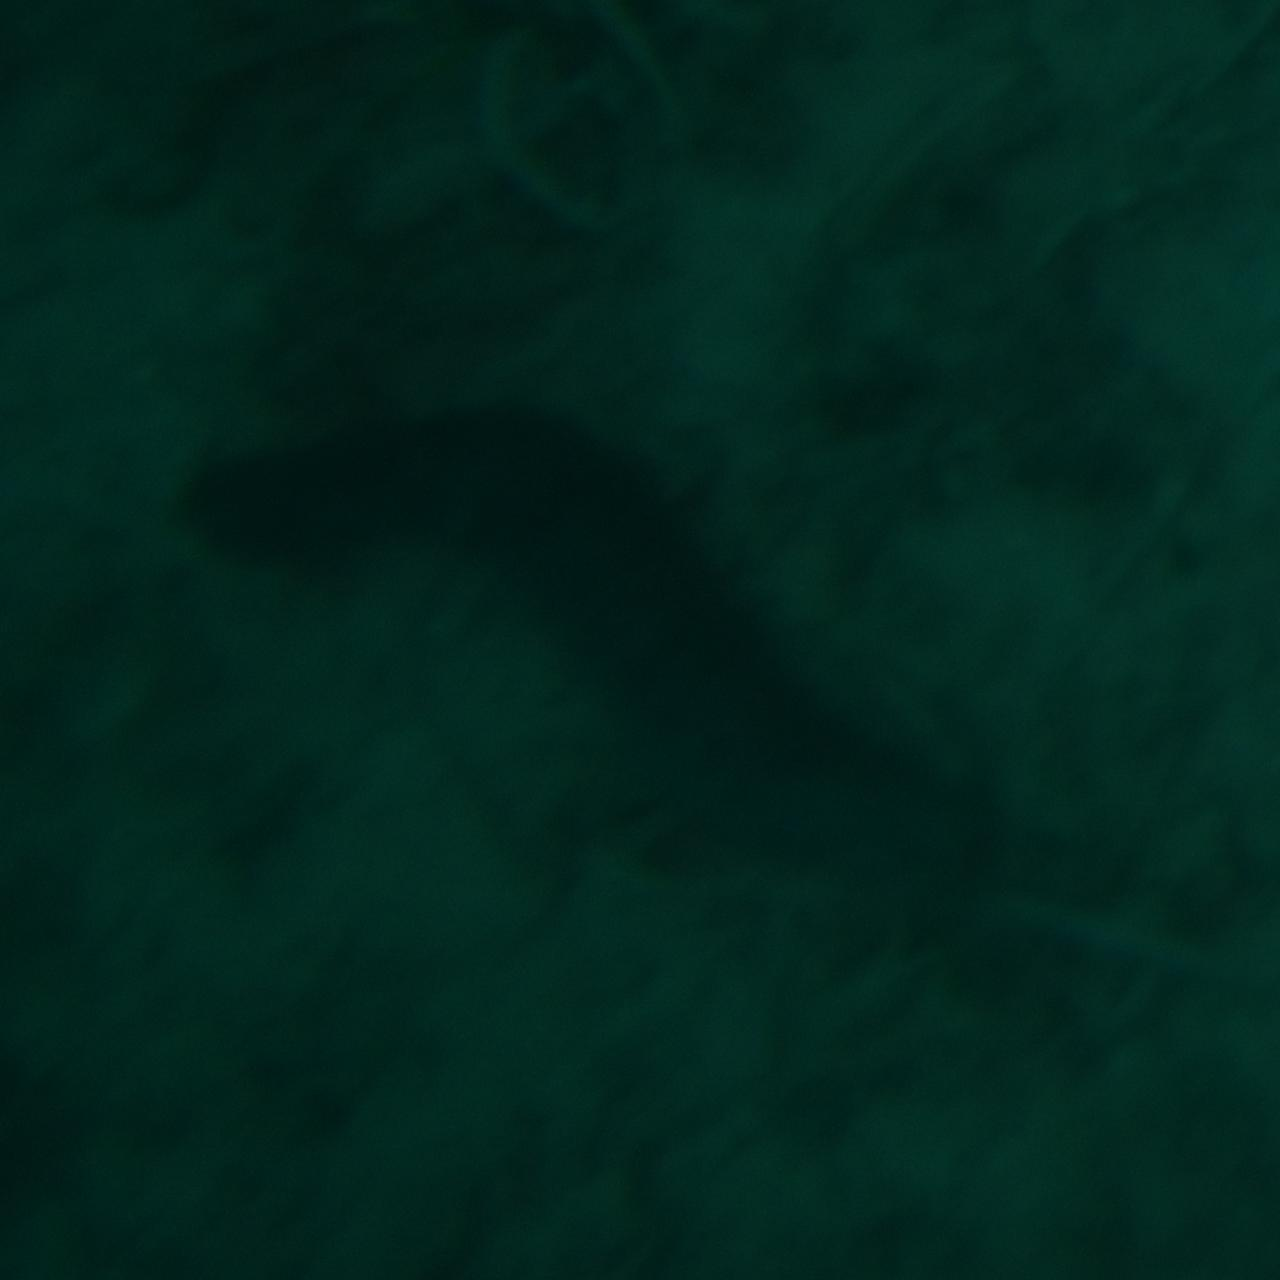Holothuria tubulosa: (154, 399, 989, 888)
